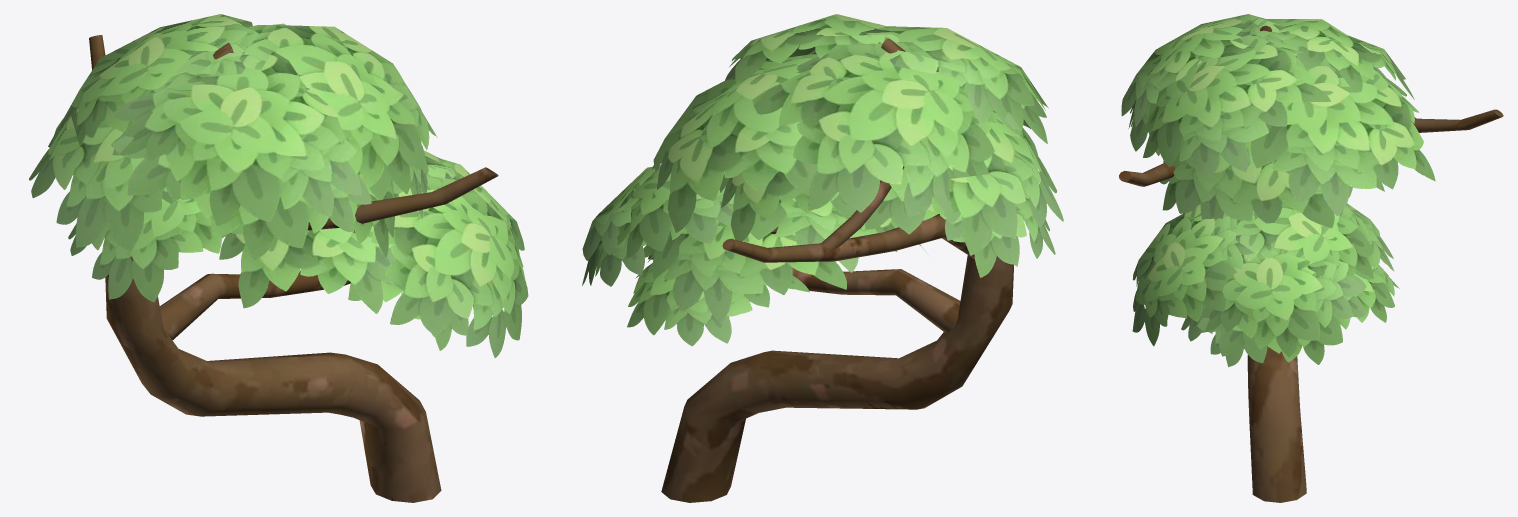
The model's file is tree_10.glb.
3 views of the same model, side by side, from view 1: azimuth 30°, elevation 25°; view 2: azimuth 150°, elevation 25°; view 3: azimuth 270°, elevation 25° (orthographic). The views are drawn at different scales.
Parts seen in each view (by area): view 1: Tree_10; view 2: Tree_10; view 3: Tree_10.
Boxes of the visible parts, left/top/right/bottom form: Tree_10: left=29, top=14, right=528, bottom=502; Tree_10: left=582, top=14, right=1063, bottom=502; Tree_10: left=1119, top=14, right=1503, bottom=502.
Size of the model in its own units: 4.28 by 4.35 by 3.98.
2 materials, 2 textured.
